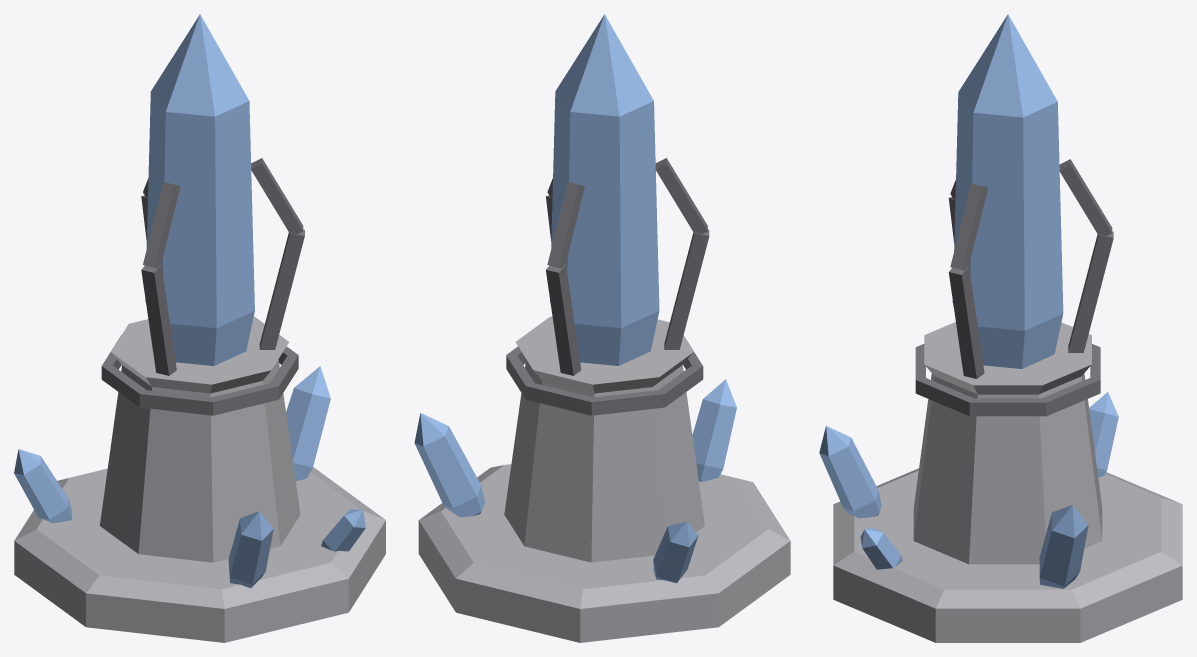
File: prop-crystal-focus-pylon.glb
The picture shows the model from 3 angles, left to right: view 1: azimuth 30°, elevation 25°; view 2: azimuth 150°, elevation 25°; view 3: azimuth 270°, elevation 25°; orthographic projection.
Parts seen in each view (by area): view 1: prop-crystal-focus-pylon; view 2: prop-crystal-focus-pylon; view 3: prop-crystal-focus-pylon.
Boxes of the visible parts, x1,y1,x2,y2 form: prop-crystal-focus-pylon: (14, 14, 385, 642); prop-crystal-focus-pylon: (414, 14, 790, 642); prop-crystal-focus-pylon: (819, 14, 1182, 642).
Size of the model in its own units: 0.946 by 1.62 by 0.9614.
